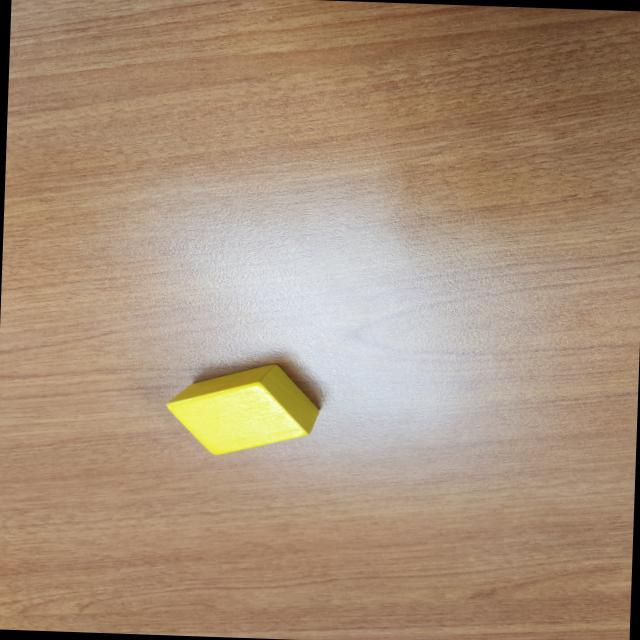yellow: (162, 358, 322, 458)
